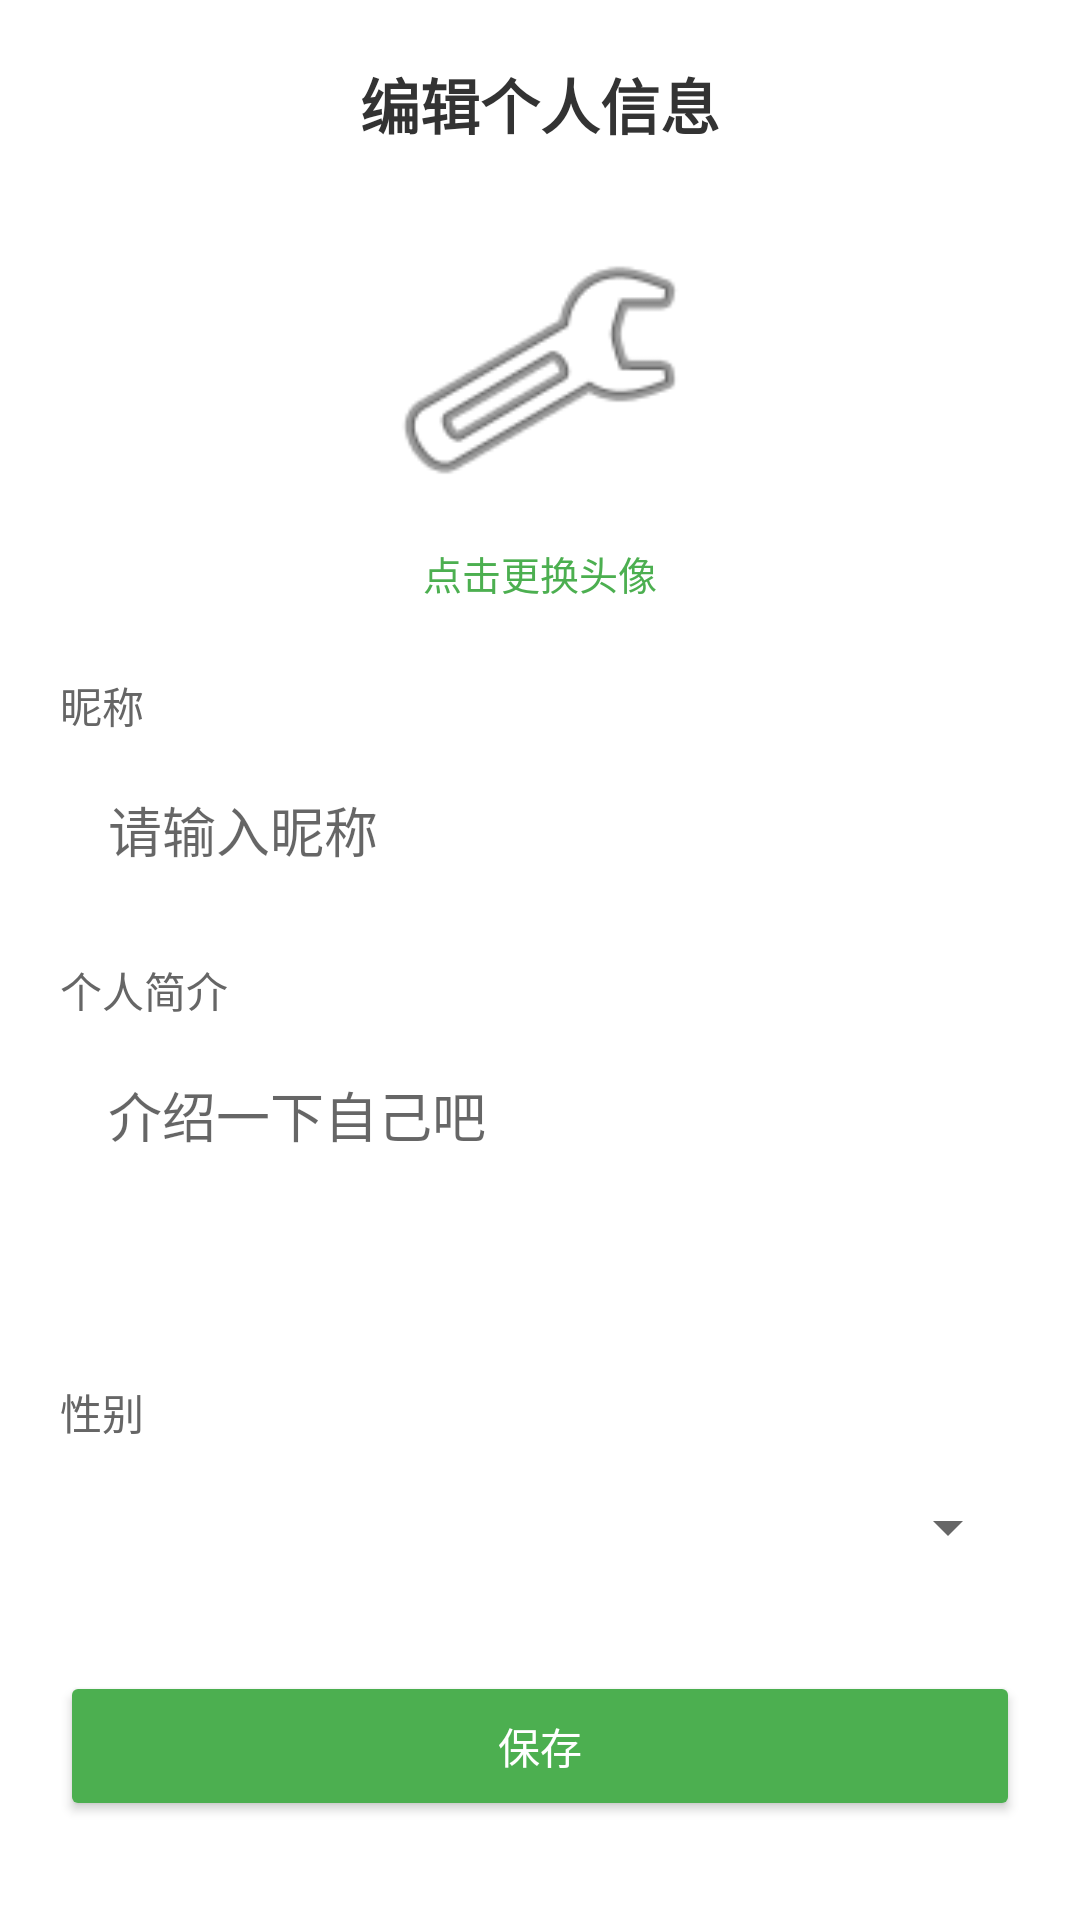

Screen size 1080×1920. Icon name, then its box in pixels as (x1, y1, x2, y2):
manage: (404, 266, 675, 474)
